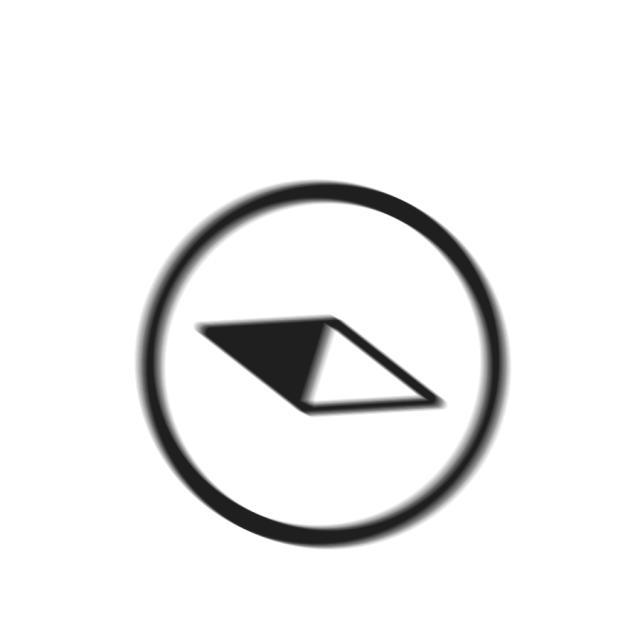compass: (131, 175, 517, 557)
